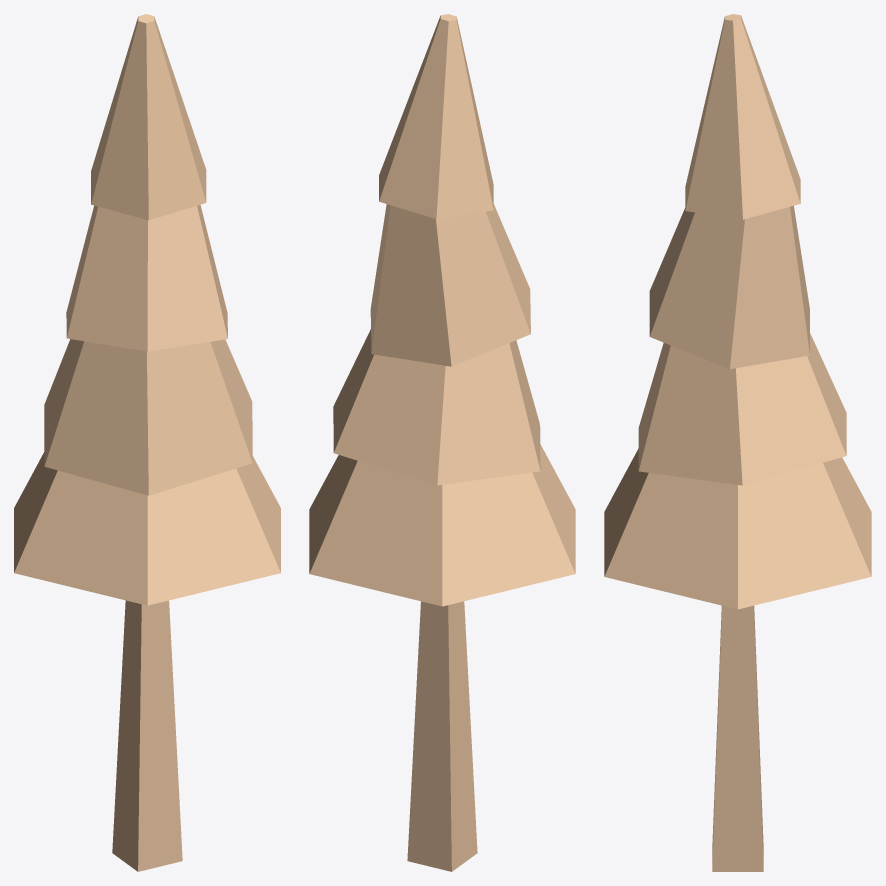
File: tree_pine_short.fbx
3 views of the same model, side by side, from view 1: azimuth 30°, elevation 25°; view 2: azimuth 150°, elevation 25°; view 3: azimuth 270°, elevation 25° (orthographic).
Parts seen in each view (by area): view 1: tree_pine_short; view 2: tree_pine_short; view 3: tree_pine_short.
Boxes of the visible parts, <box> form: tree_pine_short: <box>14,14,280,871</box>; tree_pine_short: <box>309,14,575,871</box>; tree_pine_short: <box>604,14,871,871</box>.
Size of the model in its own units: 166 by 502 by 144.
